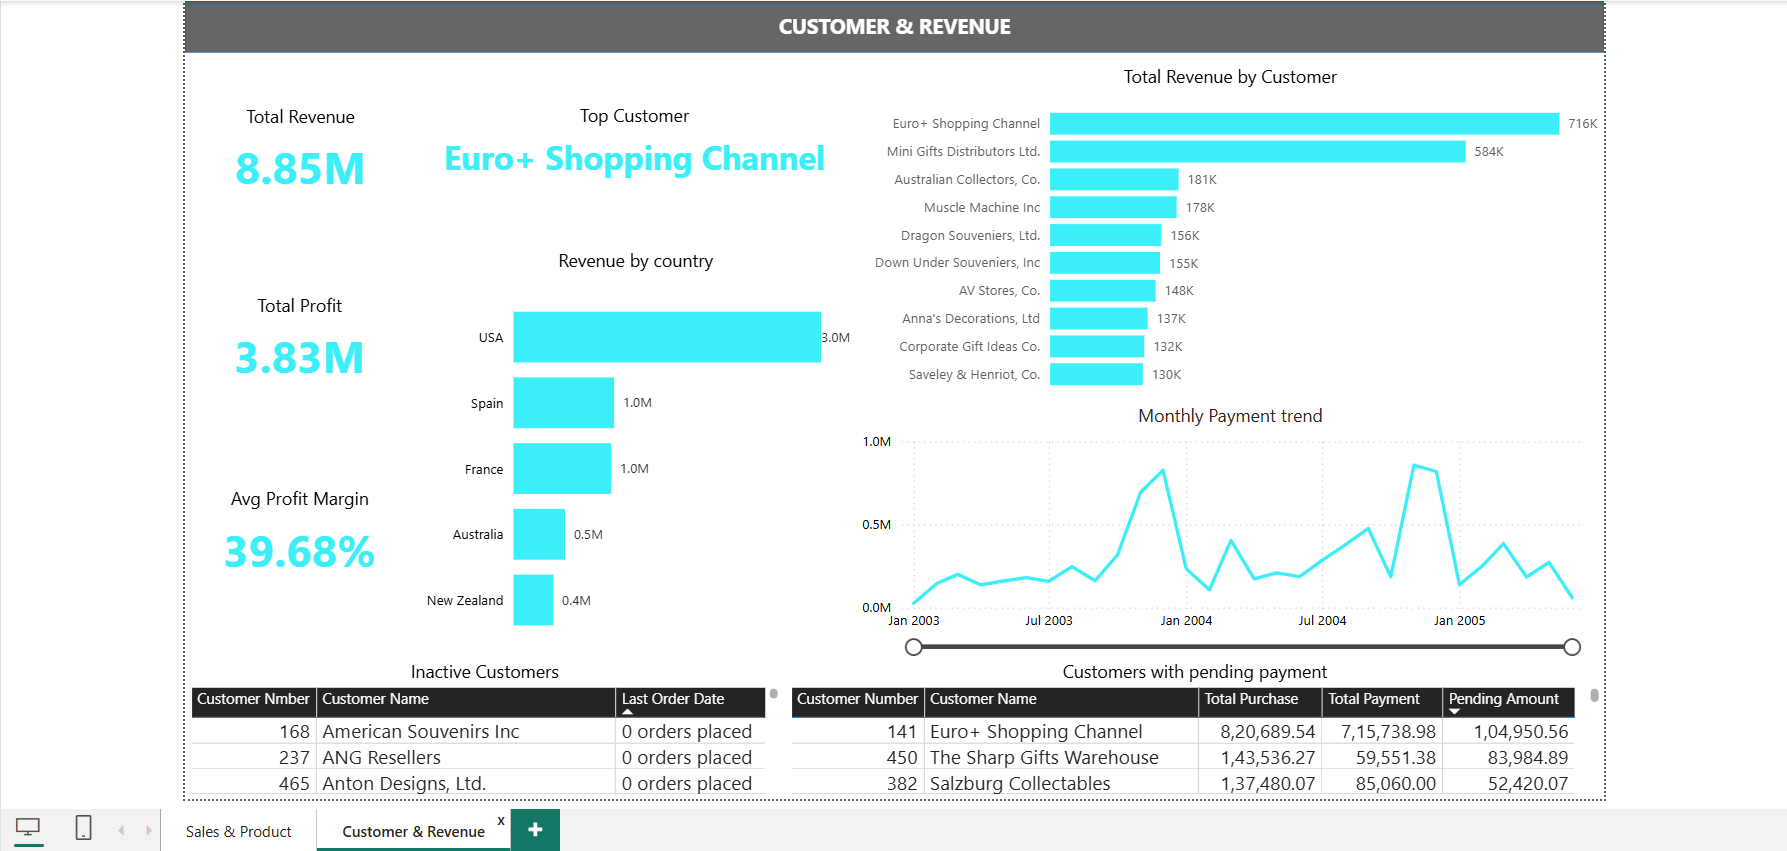

Layout of this report page (visuals, bound fields, positions):
{"tool":"powerbi","page":{"name":"Customer & Revenue","canvas":[1280,720],"ordinal":1},"visuals":[{"type":"barChart","title":"Total Revenue by Customer","fields":{"Category":["Query 3.customerName"],"Y":["Sum(Query 3.total_revenue)"]},"box":[605.2,56.3,674.8,305.6],"z":0},{"type":"shape","box":[0,0,1280,46.7],"z":1000},{"type":"textbox","box":[0,4.8,1280,38.4],"z":2000},{"type":"tableEx","title":"Customers with pending payment","fields":{"Values":["Sum(Query 10.customerNumber)","Query 10.customerName","Sum(Query 10.total_purchase)","Sum(Query 10.total_payment)","Sum(Query 10.pending_amount)"]},"box":[540.5,593.3,739.5,127],"z":3000},{"type":"tableEx","title":"Inactive Customers","fields":{"Values":["Sum(Query 1.customer_no)","Query 1.customer_name","Query 1.last_order_date"]},"box":[0,593.3,540.5,127],"z":4000},{"type":"cardVisual","fields":{"Data":["Min(top_customer.customerName)"]},"box":[207.3,63.5,396.7,125.8],"z":5000},{"type":"cardVisual","fields":{"Data":["Sum(total_revenue.total_revenue)"]},"box":[1.2,75.5,206.1,113.9],"z":6000},{"type":"cardVisual","fields":{"Data":["Sum(total_profit.total_profit)"]},"box":[0,245.7,207.3,113.9],"z":7000},{"type":"cardVisual","fields":{"Data":["Min(avg_profit_margin.avg_profit_margin)"]},"box":[0,420.7,207.3,113.9],"z":8000},{"type":"lineChart","title":"Monthly Payment trend","fields":{"Category":["Query 9.calendar_month.Variation.Date Hierarchy.Year","Query 9.calendar_month.Variation.Date Hierarchy.Month"],"Y":["Sum(Query 9.payments)"]},"box":[605.2,361.9,674.8,231.3],"z":9000},{"type":"barChart","title":"Revenue by country","fields":{"Category":["Query 2.country"],"Y":["Sum(Query 2.revenue)"]},"box":[207.3,221.7,397.9,371.5],"z":10000}]}

Visuals, with their boxes on the page's 1280x720 design canvas (x1, y1, x2, y2). These are canvas units, not pixel positions in the 1787x851 screenshot, which may show the page scaled, cropped or inside an application window:
"Total Revenue by Customer" barChart: x1=605 y1=56 x2=1280 y2=362
shape: x1=0 y1=0 x2=1280 y2=47
textbox: x1=0 y1=5 x2=1280 y2=43
"Customers with pending payment" tableEx: x1=540 y1=593 x2=1280 y2=720
"Inactive Customers" tableEx: x1=0 y1=593 x2=540 y2=720
cardVisual - Min(top_customer.customerName): x1=207 y1=64 x2=604 y2=189
cardVisual - Sum(total_revenue.total_revenue): x1=1 y1=76 x2=207 y2=189
cardVisual - Sum(total_profit.total_profit): x1=0 y1=246 x2=207 y2=360
cardVisual - Min(avg_profit_margin.avg_profit_margin): x1=0 y1=421 x2=207 y2=535
"Monthly Payment trend" lineChart: x1=605 y1=362 x2=1280 y2=593
"Revenue by country" barChart: x1=207 y1=222 x2=605 y2=593
